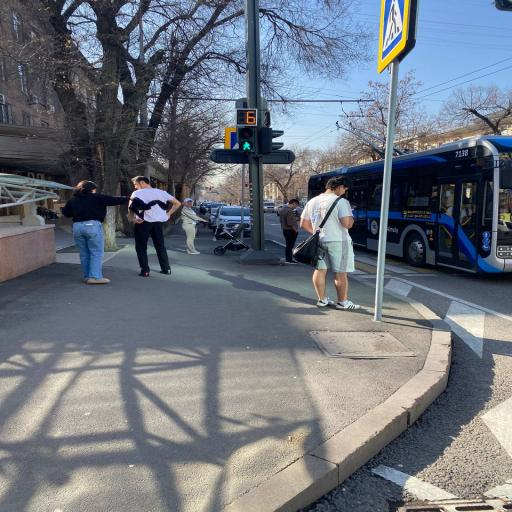bicycle: (387, 136, 511, 273)
construction_fence: (223, 290, 451, 511)
laptop: (301, 176, 360, 309), (63, 181, 129, 283), (129, 176, 180, 276)
shelf: (0, 237, 431, 511)
